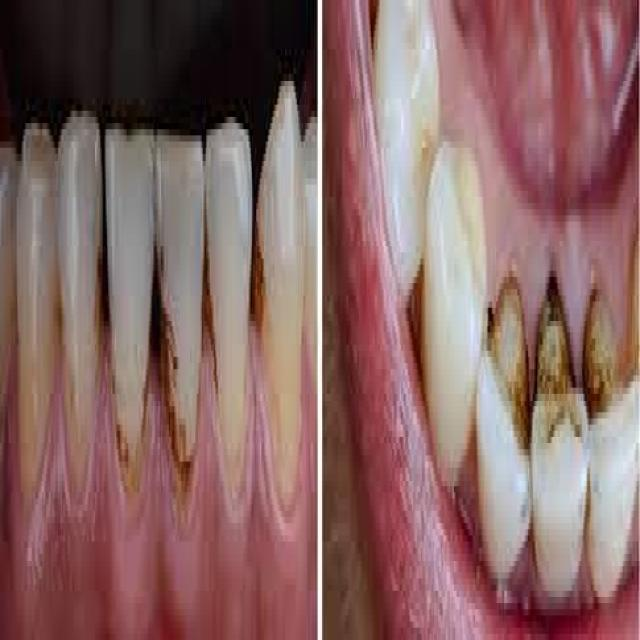Tooth Discoloration: (108, 160, 223, 554), (479, 237, 624, 471), (244, 166, 275, 363)
